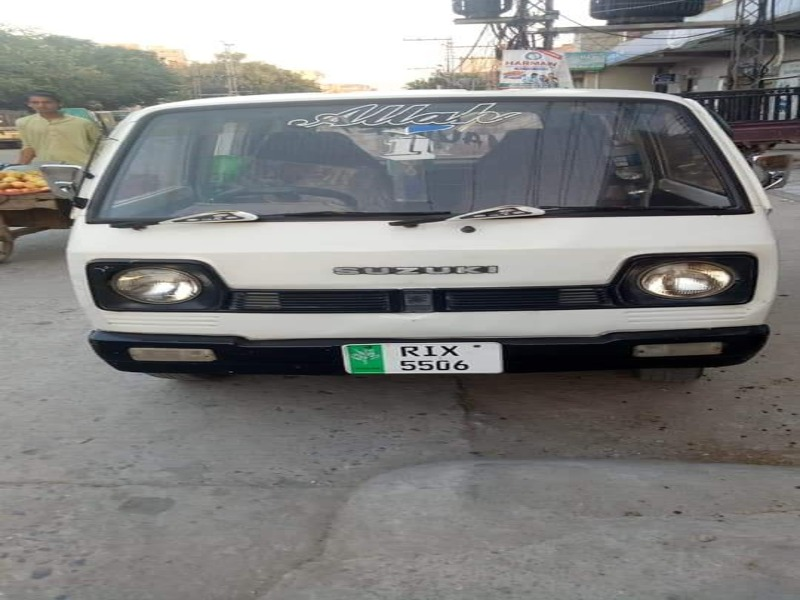License Plate: (336, 340, 511, 375)
